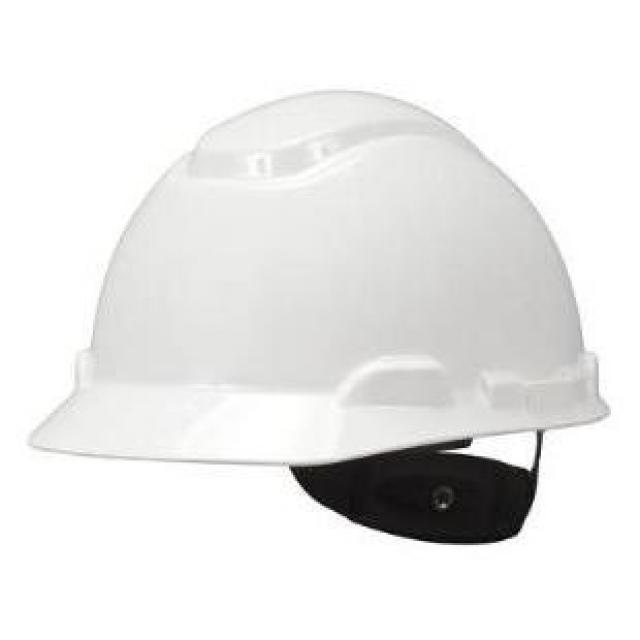Safety-Helmet: (31, 79, 628, 485)
